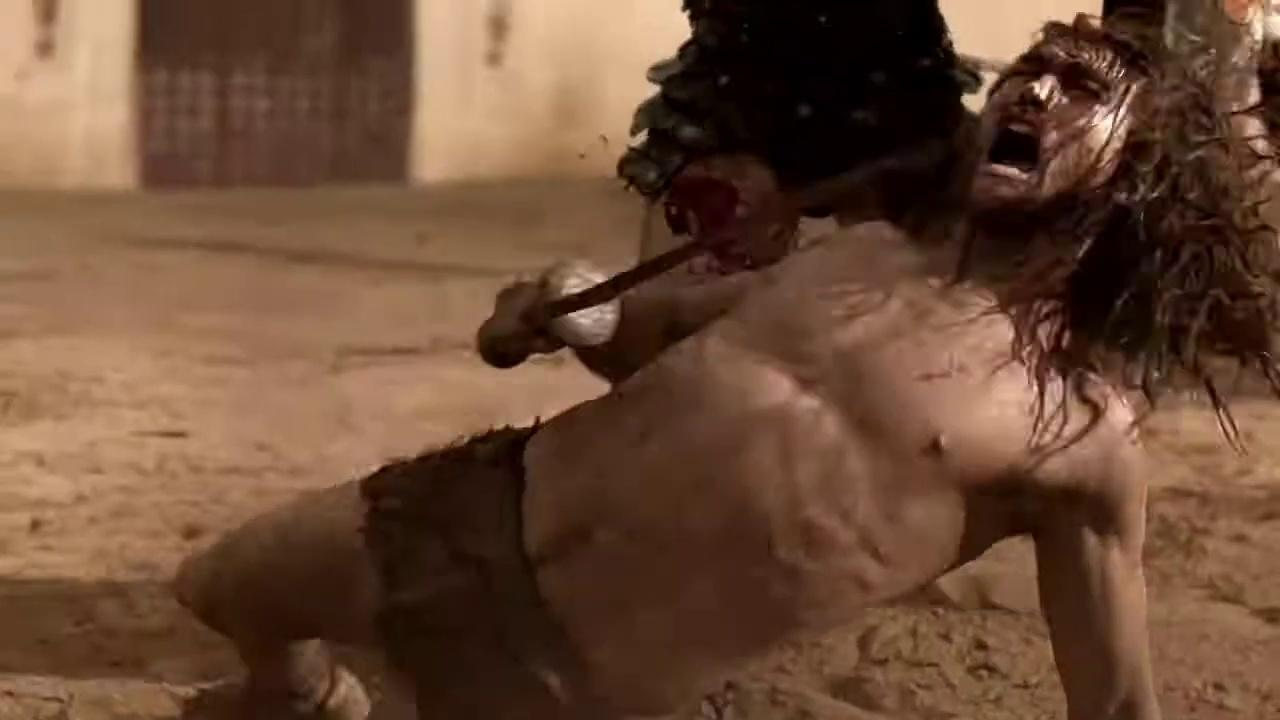Fire: (619, 92, 800, 272)
